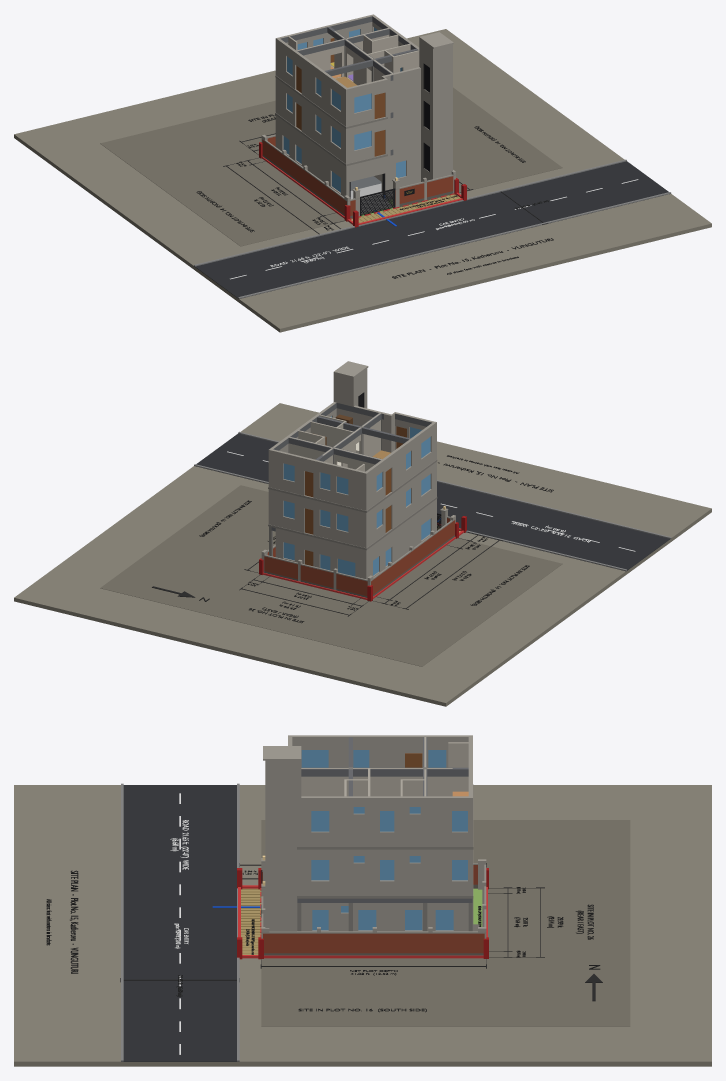
The model's file is 08_floors_pillars_beams.glb.
3 renders of one model, top to bottom at view 1: azimuth 30°, elevation 25°; view 2: azimuth 150°, elevation 25°; view 3: azimuth 270°, elevation 25°, orthographic. The views are drawn at different scales.
Visible parts, largest first — view 1: 01_Terrain, 01_Neighbour_Plot, 05_Road, SF_Wall_Exterior, FF_Wall_Exterior, LIFT_Shaft, GF_Wall_Exterior, SF_Wall_Interior, BEAM_Roof, 05_Kerb, Wall_North, Wall_Front_with_Gate (+8 smaller); view 2: 01_Terrain, 01_Neighbour_Plot, 05_Road, SF_Wall_Exterior, FF_Wall_Exterior, GF_Wall_Exterior, SF_Wall_Interior, BEAM_Roof, Wall_Rear, Wall_North, LIFT_Shaft, 05_Kerb (+5 smaller); view 3: 01_Terrain, 01_Neighbour_Plot, 05_Road, SF_Wall_Exterior, FF_Wall_Exterior, LIFT_Shaft, Wall_South, SF_Wall_Interior, GF_Wall_Exterior, SF_Glass, BEAM_Roof, GF_Glass (+13 smaller).
Part boxes in pixels (x1=…): 01_Terrain: x1=14, y1=29, x2=711, y2=332; 01_Neighbour_Plot: x1=100, y1=87, x2=562, y2=246; 05_Road: x1=194, y1=161, x2=670, y2=298; SF_Wall_Exterior: x1=275, y1=14, x2=420, y2=126; FF_Wall_Exterior: x1=275, y1=62, x2=420, y2=164; LIFT_Shaft: x1=419, y1=32, x2=453, y2=181; GF_Wall_Exterior: x1=275, y1=115, x2=420, y2=198; SF_Wall_Interior: x1=288, y1=28, x2=419, y2=85; BEAM_Roof: x1=280, y1=16, x2=418, y2=80; 05_Kerb: x1=194, y1=159, x2=671, y2=298; Wall_North: x1=262, y1=140, x2=346, y2=215; Wall_Front_with_Gate: x1=350, y1=176, x2=453, y2=218; 01_Terrain: x1=14, y1=403, x2=711, y2=706; 01_Neighbour_Plot: x1=100, y1=485, x2=562, y2=666; 05_Road: x1=196, y1=433, x2=670, y2=571; SF_Wall_Exterior: x1=268, y1=402, x2=436, y2=510; FF_Wall_Exterior: x1=268, y1=462, x2=436, y2=547; GF_Wall_Exterior: x1=275, y1=499, x2=436, y2=579; SF_Wall_Interior: x1=289, y1=413, x2=381, y2=471; BEAM_Roof: x1=273, y1=403, x2=431, y2=464; Wall_Rear: x1=264, y1=556, x2=367, y2=597; Wall_North: x1=371, y1=520, x2=455, y2=596; LIFT_Shaft: x1=333, y1=361, x2=368, y2=408; 05_Kerb: x1=194, y1=431, x2=671, y2=570; 01_Terrain: x1=14, y1=785, x2=711, y2=1066; 01_Neighbour_Plot: x1=261, y1=820, x2=630, y2=1026; 05_Road: x1=121, y1=785, x2=239, y2=1061; SF_Wall_Exterior: x1=288, y1=735, x2=472, y2=846; FF_Wall_Exterior: x1=297, y1=849, x2=472, y2=895; LIFT_Shaft: x1=263, y1=746, x2=301, y2=931; Wall_South: x1=263, y1=933, x2=484, y2=955; SF_Wall_Interior: x1=301, y1=737, x2=468, y2=796; GF_Wall_Exterior: x1=297, y1=899, x2=472, y2=931; SF_Glass: x1=301, y1=750, x2=467, y2=831; BEAM_Roof: x1=301, y1=737, x2=468, y2=796; GF_Glass: x1=312, y1=906, x2=453, y2=930.
Bounding box in the file's own units: 36.4 × 13.67 × 38.8.
